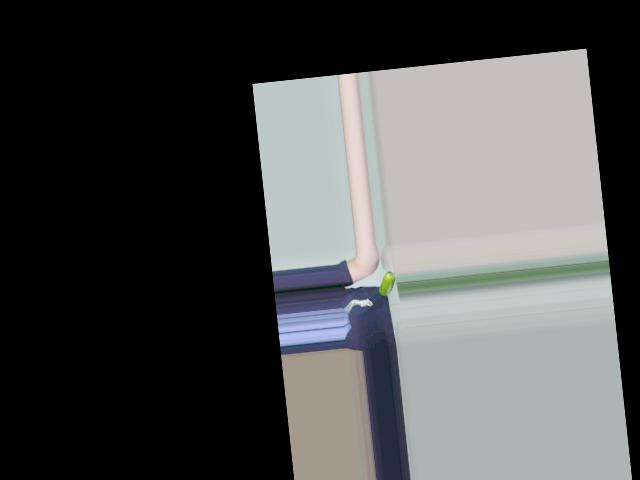cucumber: (377, 270, 397, 296)
